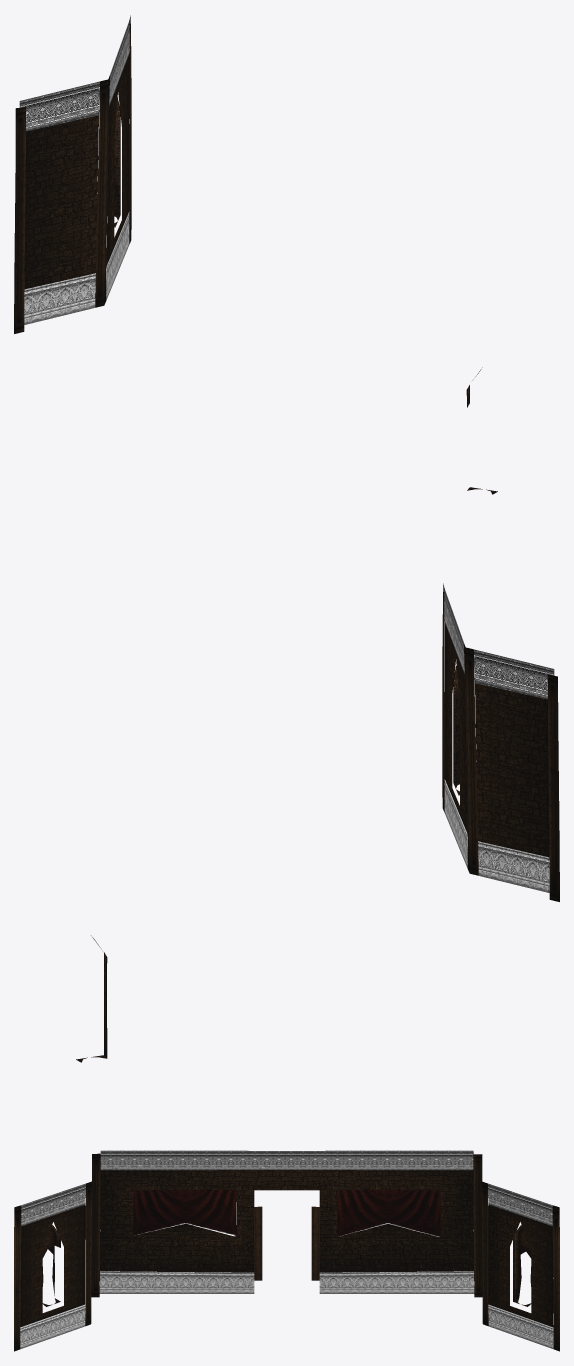
The model's file is test-walls_back-opt.glb.
The picture shows the model from 3 angles, top to bottom: view 1: azimuth 30°, elevation 25°; view 2: azimuth 150°, elevation 25°; view 3: azimuth 270°, elevation 25°; orthographic projection. The views are drawn at different scales.
Visible parts, largest first — view 1: room_back; view 2: room_back; view 3: room_back.
Boxes of the visible parts, box(x1,y1,x2,y2) form: room_back: box(14, 15, 497, 494); room_back: box(76, 583, 559, 1062); room_back: box(14, 1150, 559, 1351).
Size of what is drawn, in the model's own units: 73.55 by 85.96 by 295.
Materials: 8 (8 with a texture image).
